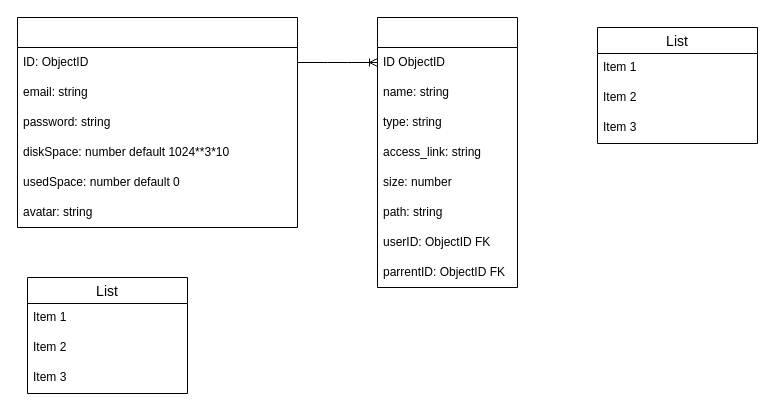
The diagram is 775 pixels wide and 414 high, and some of its shapes have lost their labels. Each missing label, with the box of its shape:
File: (376, 16, 518, 288)
User: (16, 16, 298, 228)
